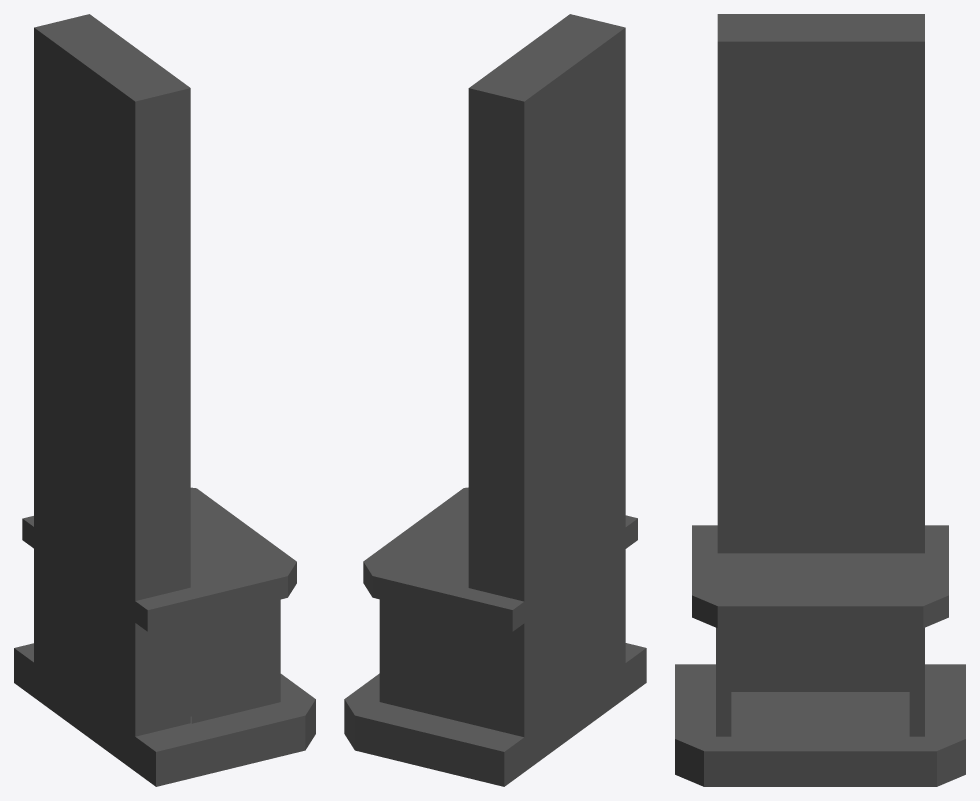
File: Fireplace_2.fbx
3 views of the same model, side by side, from view 1: azimuth 30°, elevation 25°; view 2: azimuth 150°, elevation 25°; view 3: azimuth 270°, elevation 25° (orthographic). The views are drawn at different scales.
Parts seen in each view (by area): view 1: Fireplace_2; view 2: Fireplace_2; view 3: Fireplace_2.
Boxes of the visible parts, <box> form: Fireplace_2: <box>14,14,315,786</box>; Fireplace_2: <box>344,14,646,786</box>; Fireplace_2: <box>675,14,965,786</box>.
Size of the model in its own units: 105 by 149 by 388.
